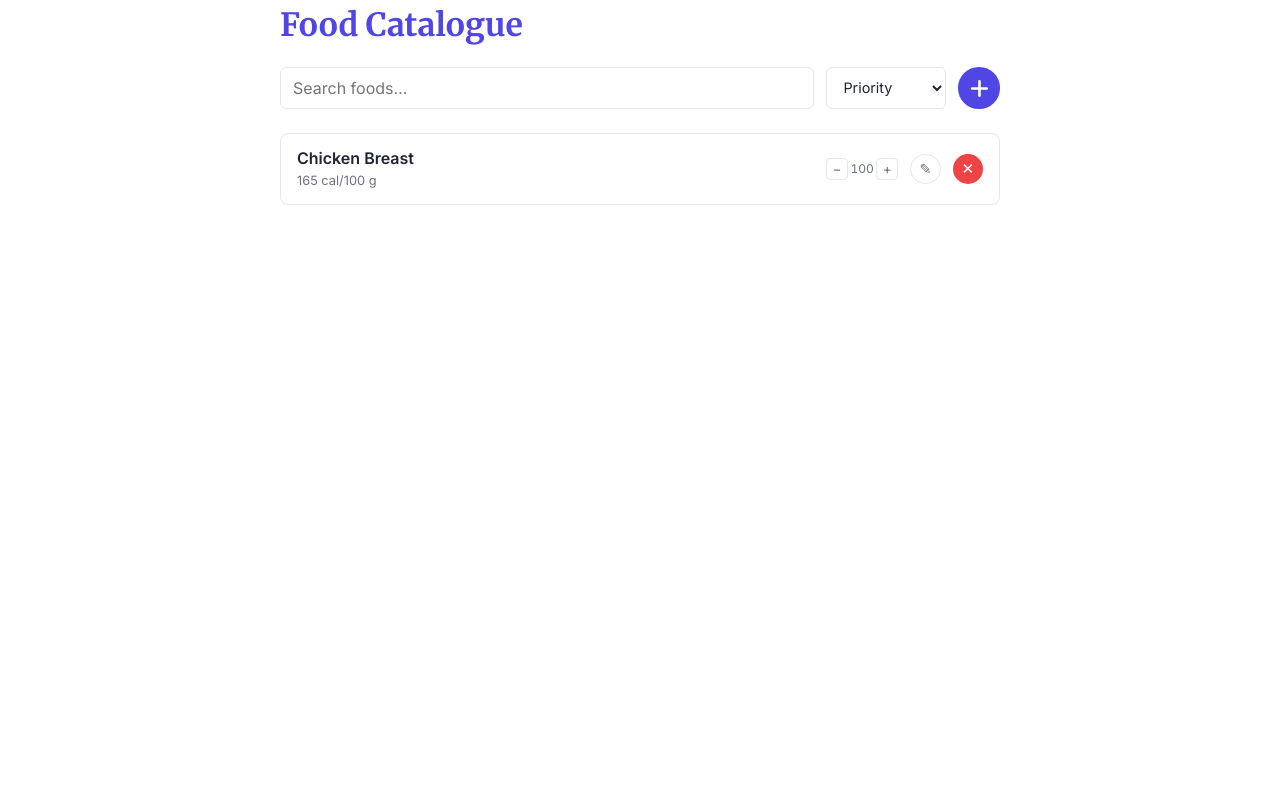
Test: CataloguePage › opens the edit dialog when clicking the ✎ edit button
The image size is (1280, 800).
Expected: the text "Chicken Breast" is shown, left=297, top=148, right=414, bottom=168
Click the button named "Edit Chicken Breast": (925, 169) left=910, top=154, right=941, bottom=184
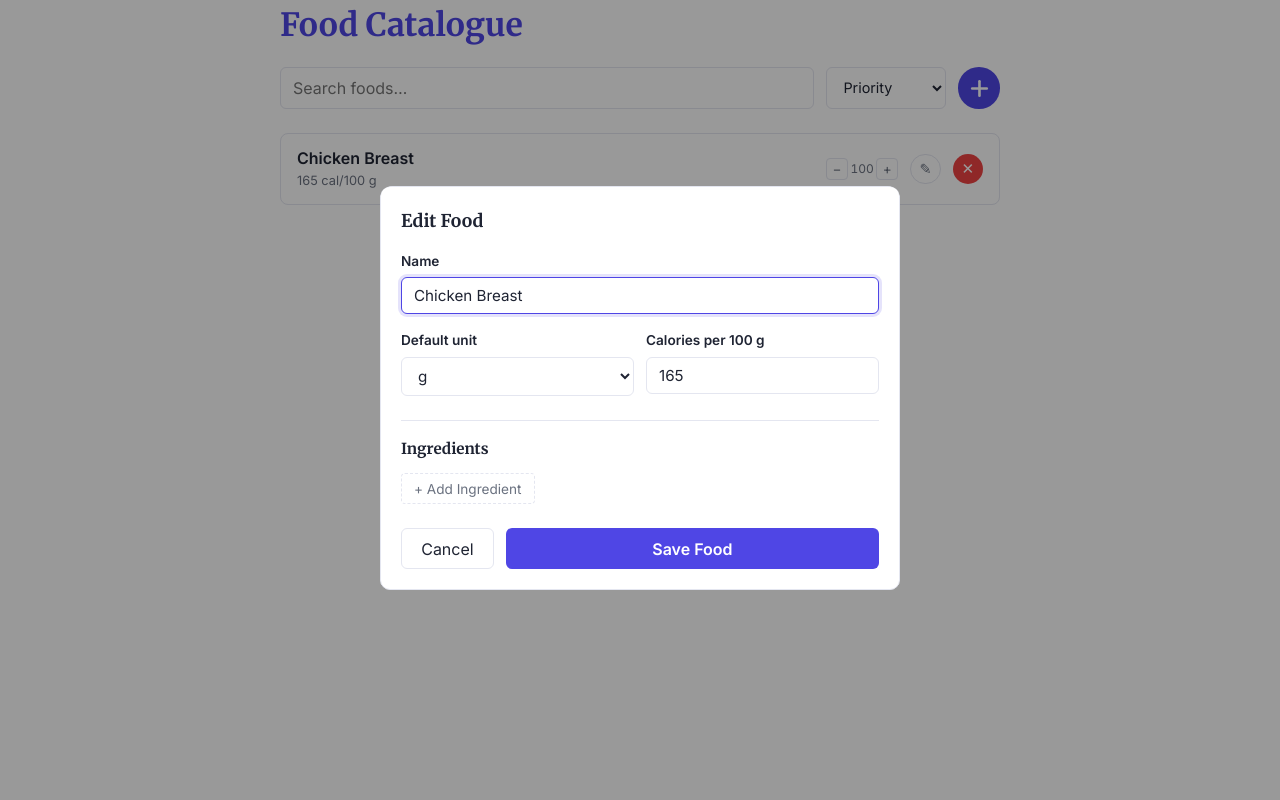
Expected: the heading "Edit Food" is shown, left=401, top=210, right=483, bottom=232
Expected: the number field holds "165", left=646, top=357, right=879, bottom=394
